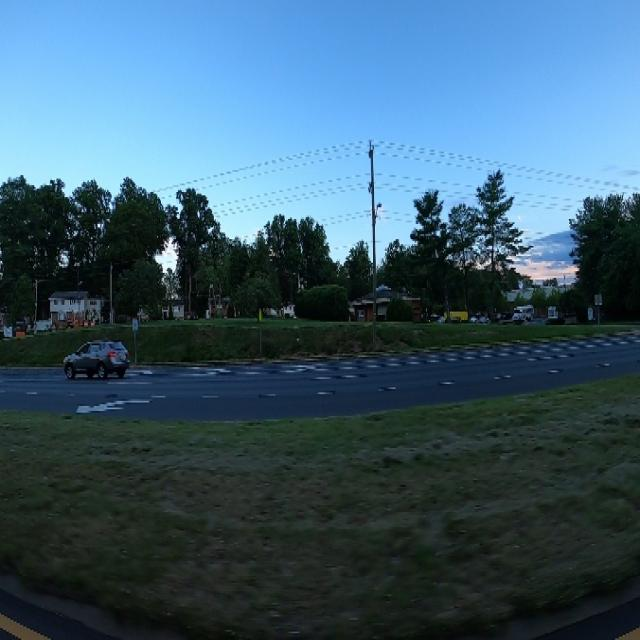car: (64, 329, 133, 393)
